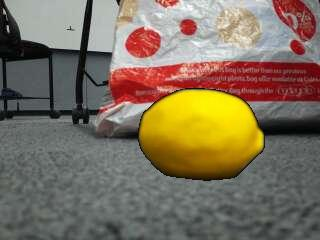lemon: (139, 92, 263, 181)
